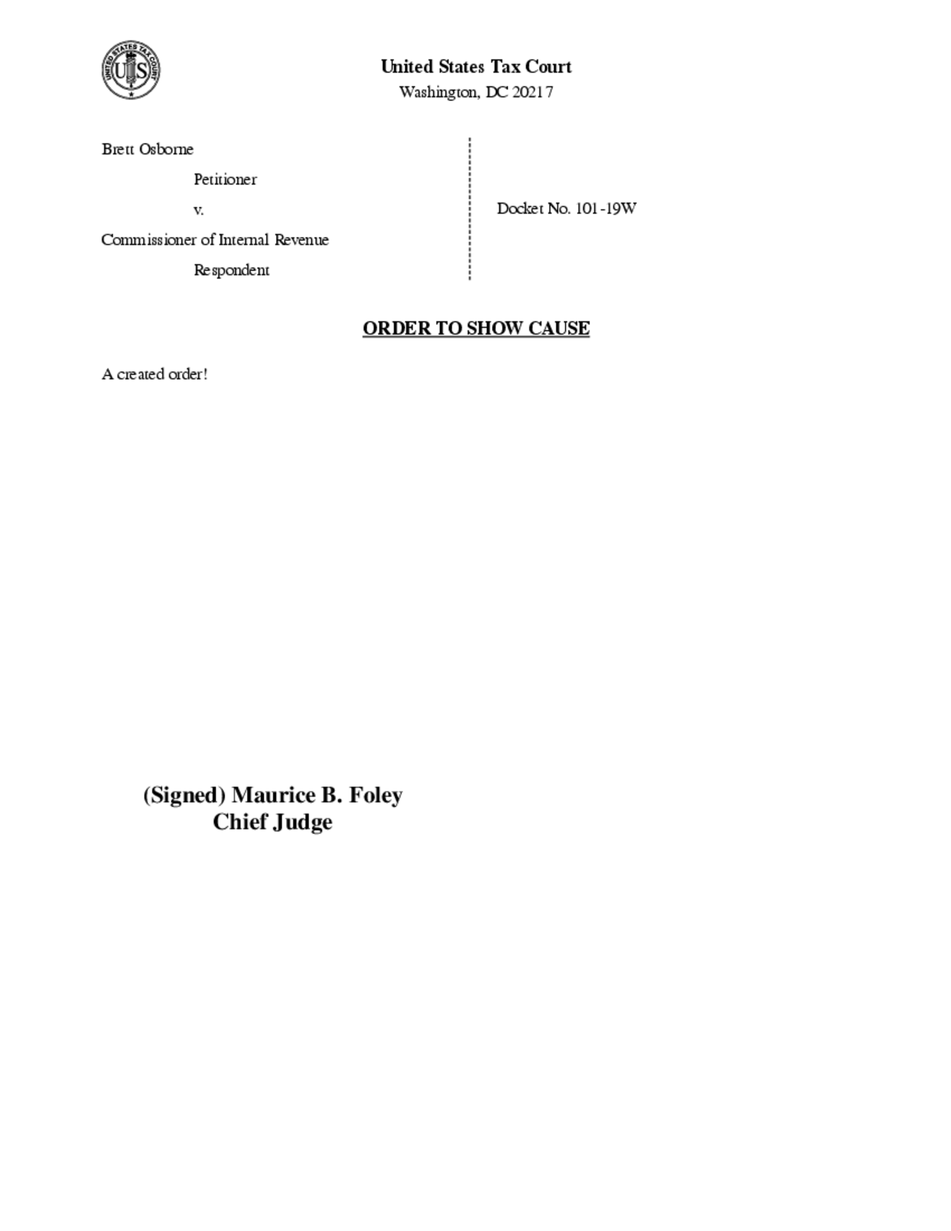signature: (143, 785, 403, 835)
